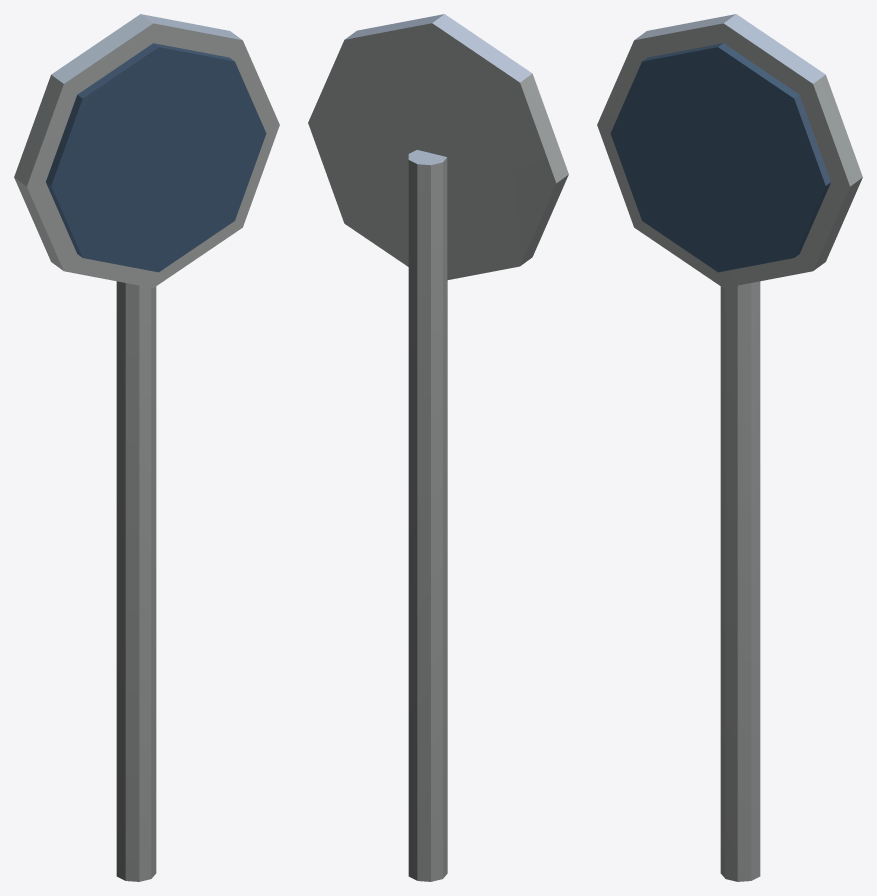
Rendered from sign_panel_a.glb.
The picture shows the model from 3 angles, left to right: view 1: azimuth 30°, elevation 25°; view 2: azimuth 150°, elevation 25°; view 3: azimuth 330°, elevation 25°; orthographic projection.
Parts seen in each view (by area): view 1: Prop, Panel; view 2: Prop; view 3: Prop, Panel.
Boxes of the visible parts, <box> form: Prop: <box>14,14,279,881</box>; Panel: <box>46,43,266,272</box>; Prop: <box>308,14,568,881</box>; Prop: <box>597,14,862,881</box>; Panel: <box>610,43,830,272</box>.
Bounding box in the file's own units: 0.8901 × 2.9 × 0.2026.
